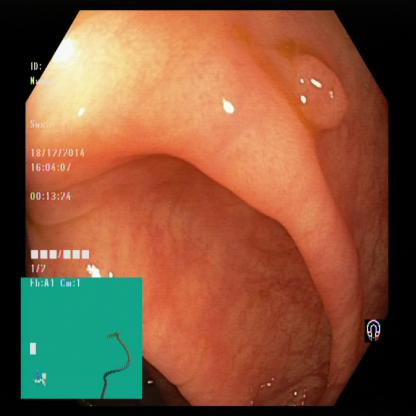Labels: (26, 56, 104, 277), (20, 277, 144, 401), (356, 310, 390, 350)
Polyps: (289, 44, 356, 138)
